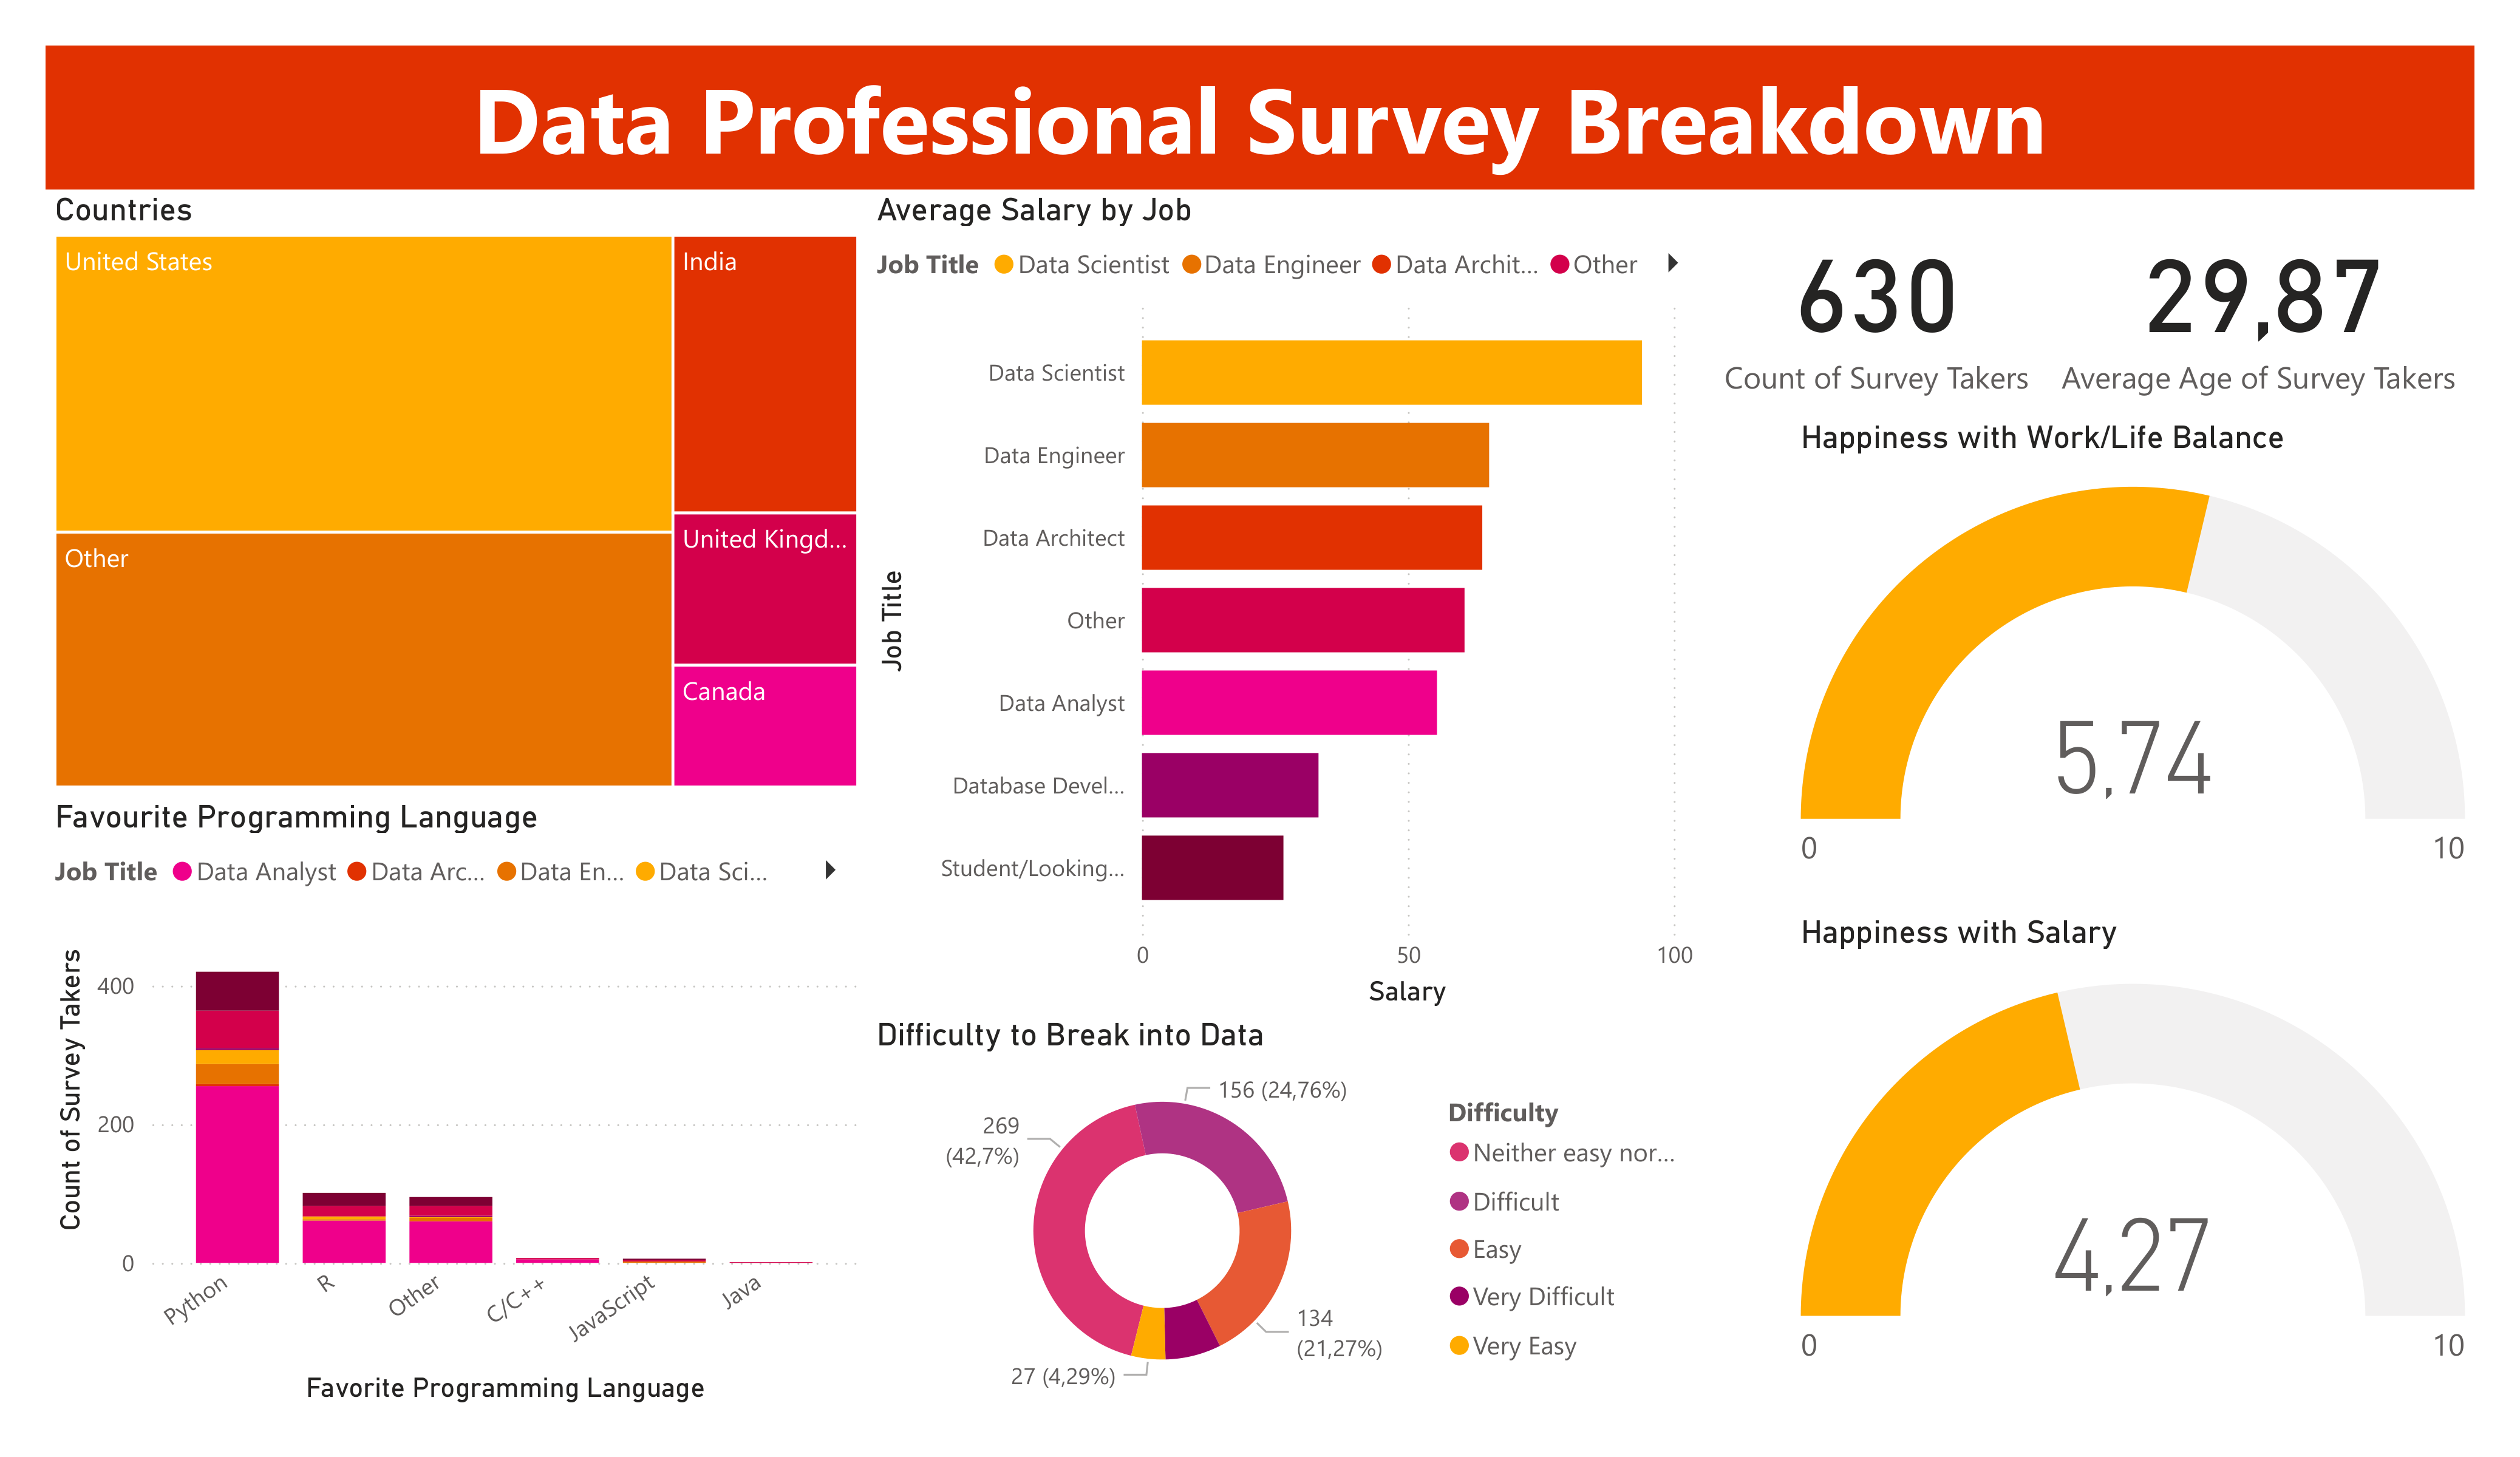

This screenshot's page, from the dashboard's own definition file:
{"tool":"powerbi","page":{"name":"Page 1","canvas":[1280,720],"ordinal":0},"visuals":[{"type":"textbox","box":[0,0,1280,75.7],"z":0},{"type":"card","fields":{"Values":["CountNonNull(Data Professional Survey.Unique ID)"]},"box":[872.9,75.7,184.3,120],"z":1000},{"type":"card","fields":{"Values":["Avg(Data Professional Survey.Q10 - Current Age)"]},"box":[1057.1,75.7,222.9,120],"z":2000},{"type":"barChart","title":"Average Salary by Job","fields":{"Category":["Data Professional Survey.Q1 - Which Title Best Fits your Current Role?"],"Y":["Avg(Data Professional Survey.Average Salary)"],"Series":["Data Professional Survey.Q1 - Which Title Best Fits your Current Role?"]},"box":[432.9,75.7,440,435.7],"z":3000},{"type":"columnChart","title":"Favourite Programming Language","fields":{"Category":["Data Professional Survey.Q5 - Favorite Programming Language.1"],"Y":["CountNonNull(Data Professional Survey.Unique ID)"],"Series":["Data Professional Survey.Q1 - Which Title Best Fits your Current Role?"]},"box":[0,395.7,432.9,324.3],"z":4000},{"type":"treemap","title":"Countries","fields":{"Values":["CountNonNull(Data Professional Survey.Q11 - Which Country do you live in?)"],"Group":["Data Professional Survey.Q11 - Which Country do you live in?"]},"box":[0,75.7,432.9,320],"z":4001},{"type":"gauge","title":"Happiness with Work/Life Balance","fields":{"Y":["Avg(Data Professional Survey.Q6 - How Happy are you in your Current Position with the following? (Work/Life Balance))"],"MinValue":["Min(Data Professional Survey.Q6 - How Happy are you in your Current Position with the following? (Work/Life Balance))"],"MaxValue":["Max(Data Professional Survey.Q6 - How Happy are you in your Current Position with the following? (Work/Life Balance))1"]},"box":[920,195.7,360,261.4],"z":4002},{"type":"gauge","title":"Happiness with Salary","fields":{"Y":["Avg(Data Professional Survey.Q6 - How Happy are you in your Current Position with the following? (Salary))"],"MinValue":["Min(Data Professional Survey.Q6 - How Happy are you in your Current Position with the following? (Salary))"],"MaxValue":["Max(Data Professional Survey.Q6 - How Happy are you in your Current Position with the following? (Salary))"]},"box":[920,457.1,360,262.9],"z":4003},{"type":"donutChart","title":"Difficulty to Break into Data","fields":{"Category":["Data Professional Survey.Q7 - How difficult was it for you to break into Data?"],"Y":["CountNonNull(Data Professional Survey.Q7 - How difficult was it for you to break into Data?)"]},"box":[432.9,511.4,440,208.6],"z":4004}]}

Visuals, with their boxes in screenshot pixels (x1, y1, x2, y2):
textbox: rect(39, 39, 2436, 181)
card - CountNonNull(Data Professional Survey.Unique ID): rect(1674, 181, 2019, 406)
card - Avg(Data Professional Survey.Q10 - Current Age): rect(2019, 181, 2436, 406)
"Average Salary by Job" barChart: rect(850, 181, 1674, 997)
"Favourite Programming Language" columnChart: rect(39, 780, 850, 1387)
"Countries" treemap: rect(39, 181, 850, 780)
"Happiness with Work/Life Balance" gauge: rect(1762, 406, 2436, 895)
"Happiness with Salary" gauge: rect(1762, 895, 2436, 1387)
"Difficulty to Break into Data" donutChart: rect(850, 997, 1674, 1387)
